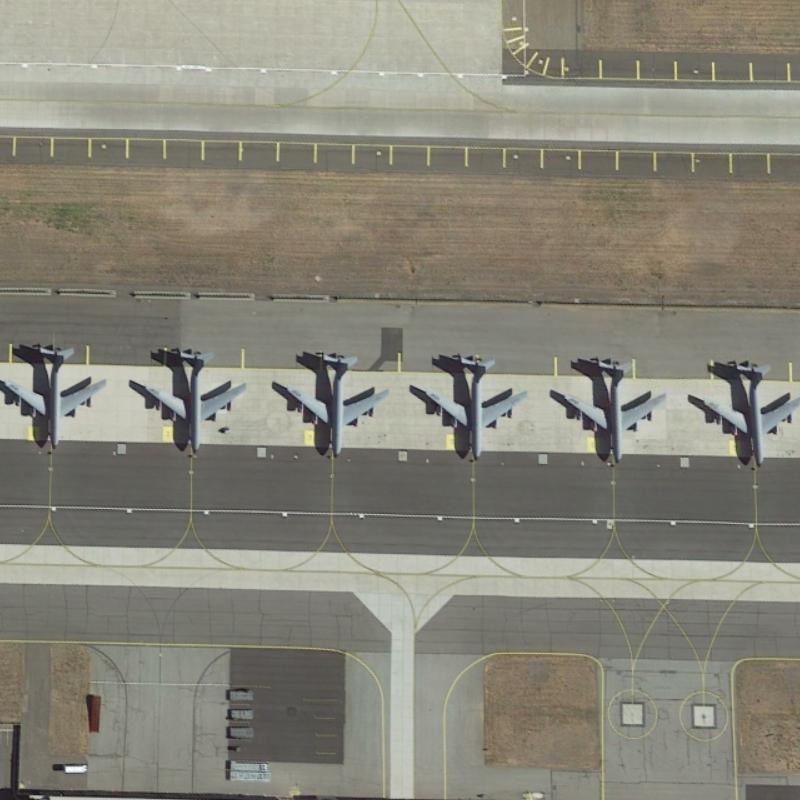A14: (265, 340, 398, 465), (407, 338, 535, 462), (128, 341, 254, 460), (688, 359, 799, 472), (553, 359, 669, 466), (3, 334, 109, 451)
